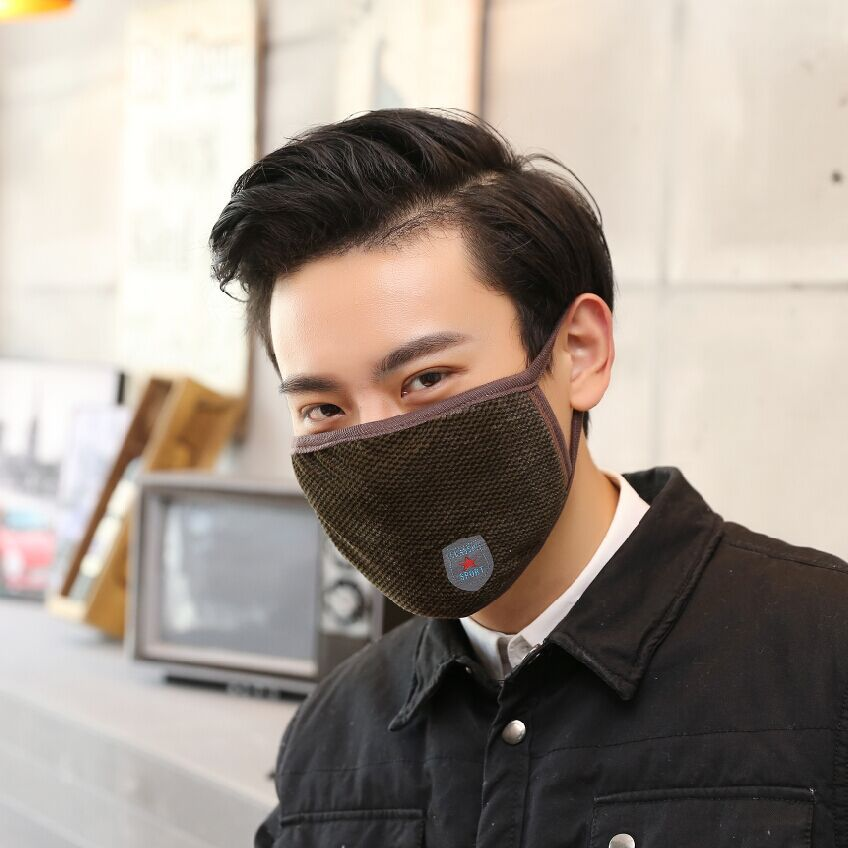face_mask: (274, 231, 554, 607)
